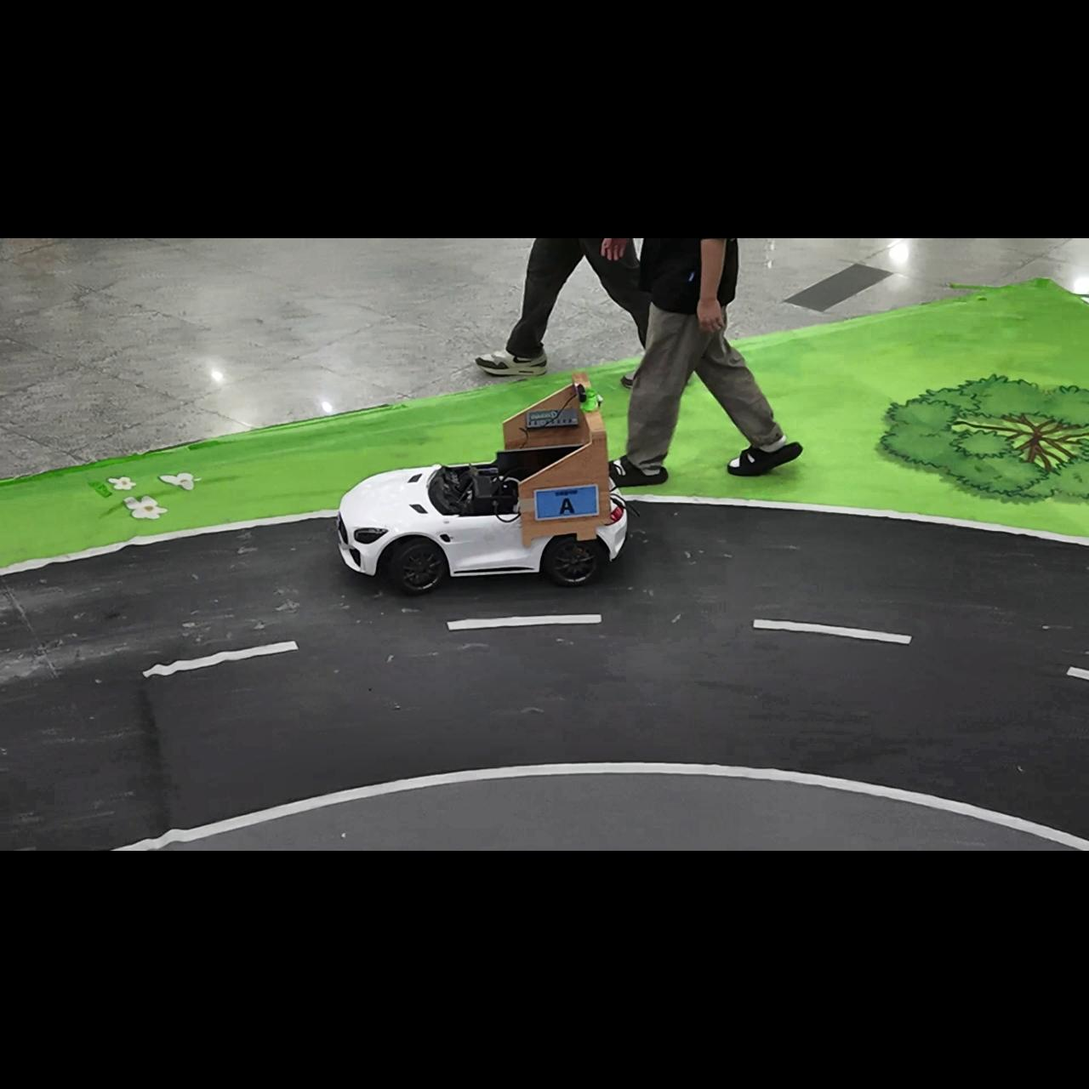broken_line: (142, 641, 297, 677), (753, 619, 911, 644), (448, 614, 601, 630), (1066, 667, 1088, 680)
